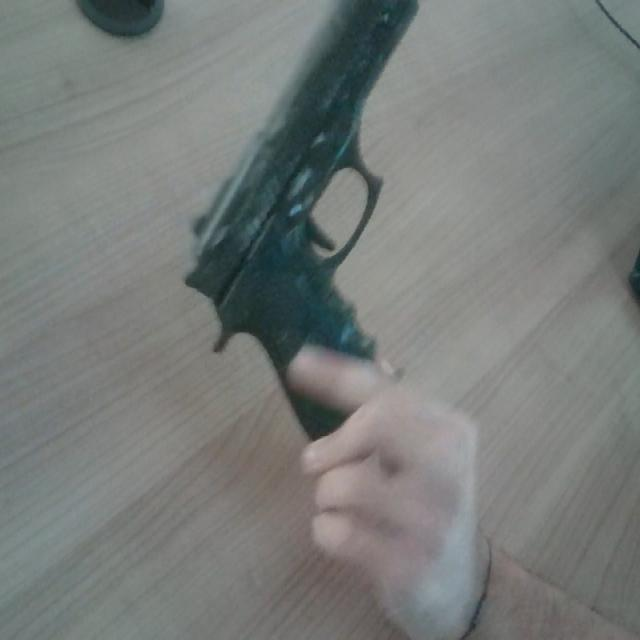handgun: (144, 0, 470, 431)
